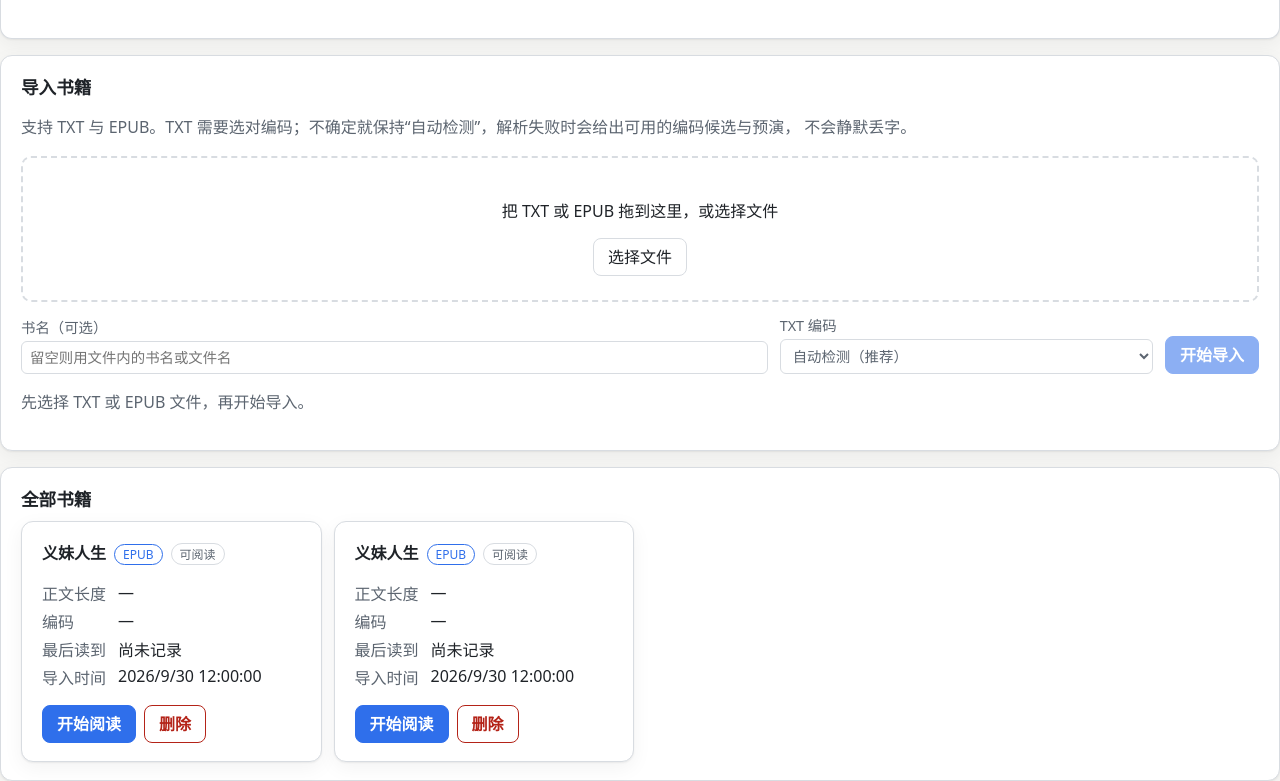
LibraryPage › 确认后只删除选中同名书，更新书架
The image size is (1280, 781).
(page scrolled)
Click the button with test id "delete-book-b1" at coordinates (175, 724), box [144,705,206,743]
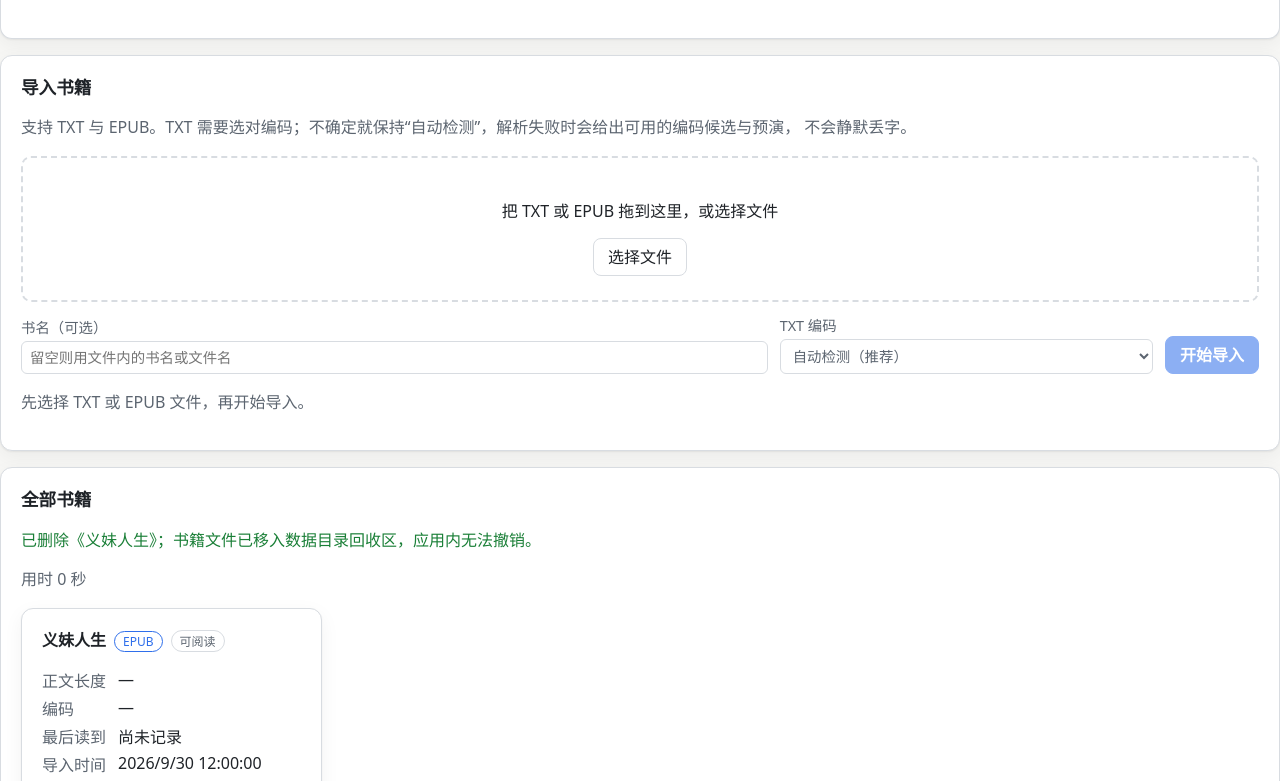
Result: the button with test id "delete-book-b1" is gone
Result: the message shows "已删除《义妹人生》" at [21,529,541,551]
